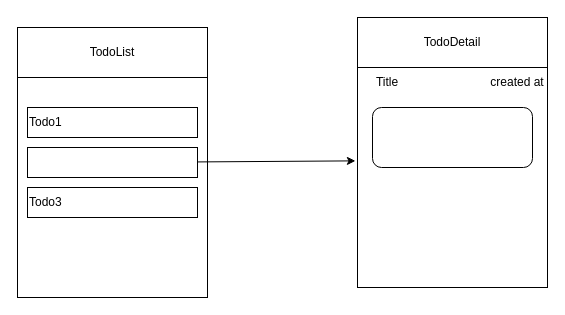
The diagram is 565 pixels wide and 315 high, and some of its shapes have lost their labels. Here are the shapes that lost their labels. From the top down, the box of each, then its label:
(372, 106, 532, 168): detail
(26, 146, 198, 178): Todo2
